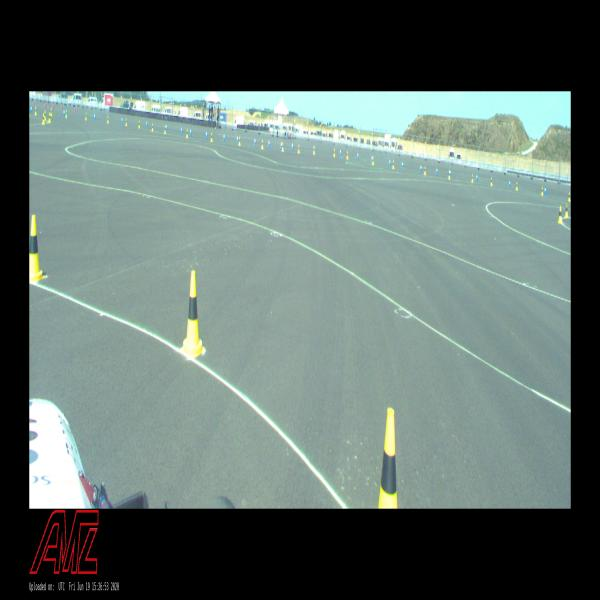blue_cone: (435, 166, 438, 176), (205, 130, 208, 139), (419, 164, 422, 173), (223, 132, 225, 142), (280, 140, 282, 150), (449, 168, 451, 178), (94, 112, 96, 121), (30, 105, 32, 113), (180, 126, 182, 134), (190, 128, 192, 136), (254, 137, 256, 145), (268, 140, 270, 148), (357, 152, 359, 160), (371, 154, 373, 162), (401, 160, 403, 168), (476, 173, 478, 181), (508, 180, 510, 188), (544, 187, 546, 195), (63, 109, 65, 116), (121, 117, 123, 124), (146, 120, 148, 127), (236, 135, 238, 142), (292, 142, 293, 151), (389, 158, 390, 166), (340, 149, 341, 156), (166, 124, 167, 130)
yellow_cone: (180, 270, 205, 358), (378, 408, 397, 508), (30, 215, 45, 282), (564, 203, 569, 218), (558, 206, 562, 224), (48, 112, 51, 123), (261, 140, 264, 150), (238, 136, 241, 146), (210, 132, 213, 142), (42, 114, 45, 124), (490, 177, 493, 186), (297, 144, 300, 153), (281, 142, 284, 151), (151, 123, 154, 132), (515, 182, 518, 190), (371, 157, 374, 165), (333, 149, 336, 157), (125, 118, 128, 126), (65, 110, 68, 118), (568, 192, 570, 202), (541, 186, 543, 196), (448, 170, 450, 180), (471, 174, 473, 183), (424, 166, 426, 175), (392, 160, 394, 169), (313, 146, 315, 155), (186, 129, 188, 138), (44, 111, 46, 120), (346, 150, 348, 158), (164, 126, 166, 134), (138, 120, 140, 128), (85, 112, 87, 120), (50, 108, 52, 116), (35, 107, 37, 115), (107, 116, 109, 123), (30, 108, 30, 117)
